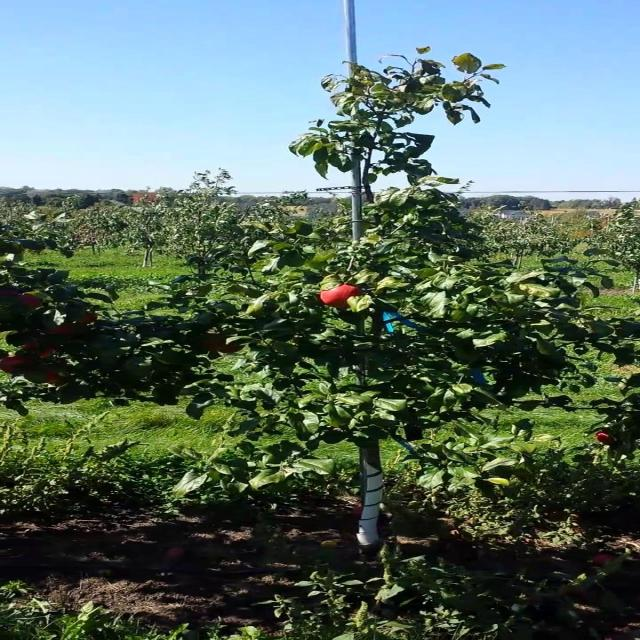apple: (319, 284, 363, 309), (6, 356, 36, 375), (20, 344, 57, 359), (49, 324, 78, 336), (35, 344, 57, 359), (20, 296, 43, 308), (77, 312, 100, 324), (220, 344, 242, 356), (596, 432, 615, 445), (49, 368, 62, 384), (205, 340, 222, 352), (6, 288, 21, 298)
